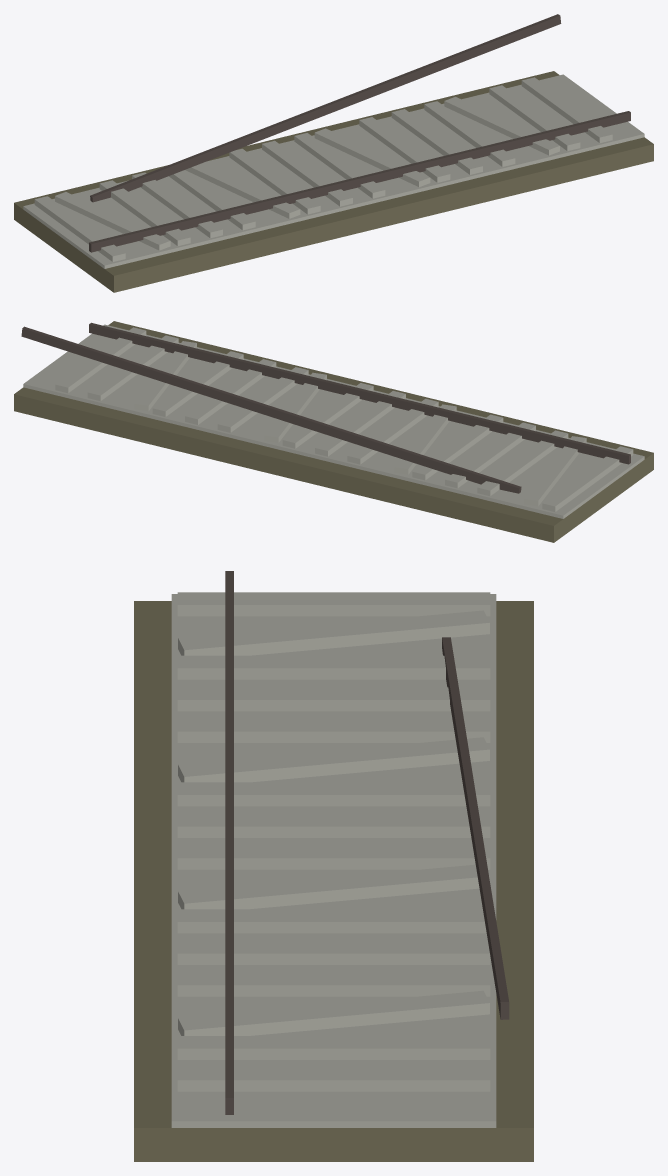
File: SM_KitVia_v1_LOD0.fbx
3 views of the same model, one above another, from view 1: azimuth 30°, elevation 25°; view 2: azimuth 150°, elevation 25°; view 3: azimuth 270°, elevation 25° (orthographic). The views are drawn at different scales.
Visible parts, largest first — view 1: SM_kit_via_v1_LOD0; view 2: SM_kit_via_v1_LOD0; view 3: SM_kit_via_v1_LOD0.
Boxes of the visible parts, <box> form: SM_kit_via_v1_LOD0: <box>14,14,653,292</box>; SM_kit_via_v1_LOD0: <box>14,321,653,542</box>; SM_kit_via_v1_LOD0: <box>134,571,533,1161</box>.
Bounding box in the file's own units: 9.98 × 1.39 × 3.2.
